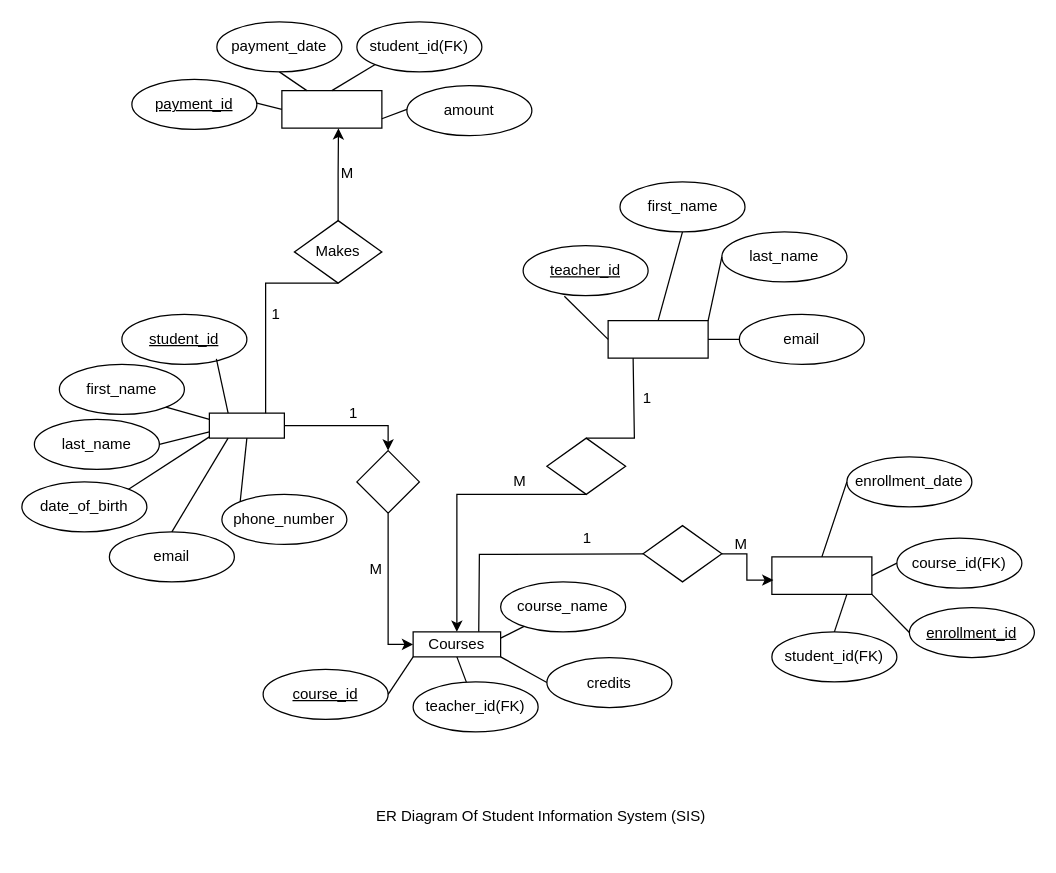
The diagram is 1056 pixels wide and 873 high, and some of its shapes have lost their labels. Here are the shapes that lost their labels. From the top down, the centre of each, then its label:
At point (331, 108): "Payments".
At point (657, 338): "Teacher".
At point (246, 425): "Students".
At point (387, 481): "Enrolls".
At point (586, 465): "Teaches".
At point (682, 553): "have".
At point (821, 575): "Enrollments".
